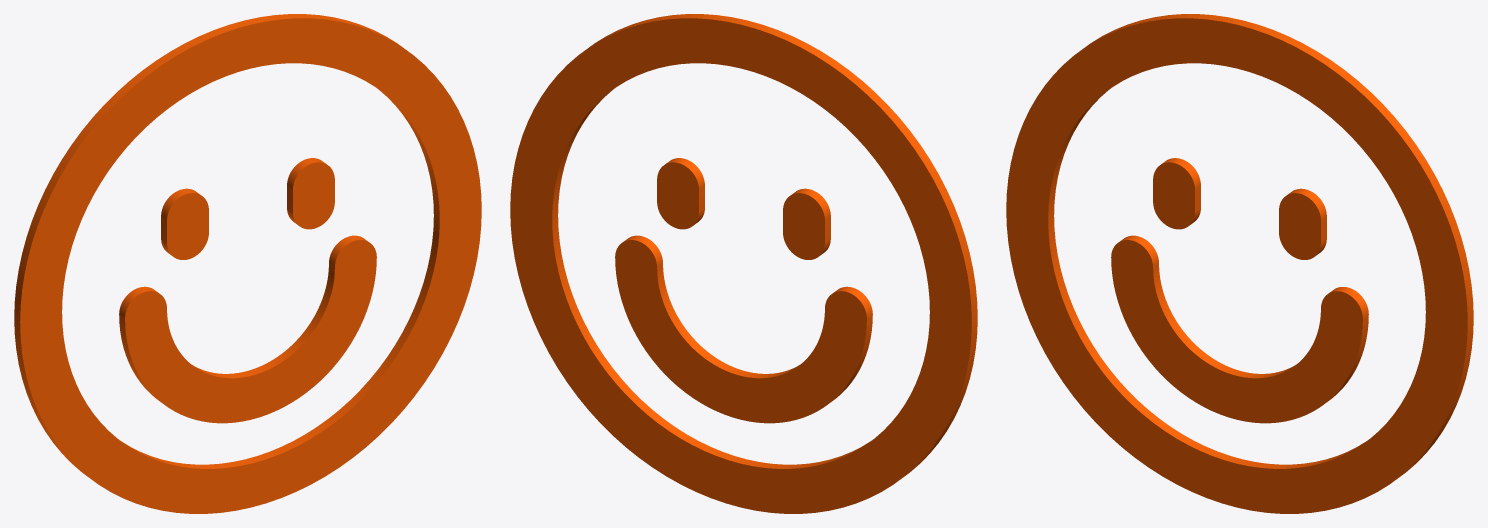
The model's file is smile4.glb.
The picture shows the model from 3 angles, left to right: view 1: azimuth 30°, elevation 25°; view 2: azimuth 150°, elevation 25°; view 3: azimuth 330°, elevation 25°; orthographic projection.
Visible parts, largest first — view 1: Curve; view 2: Curve; view 3: Curve.
Part boxes in pixels (bbox=[...]): Curve: bbox=[14, 14, 481, 513]; Curve: bbox=[510, 14, 977, 513]; Curve: bbox=[1006, 14, 1473, 513].
Bounding box in the file's own units: 7.02 × 7.01 × 0.1559.
